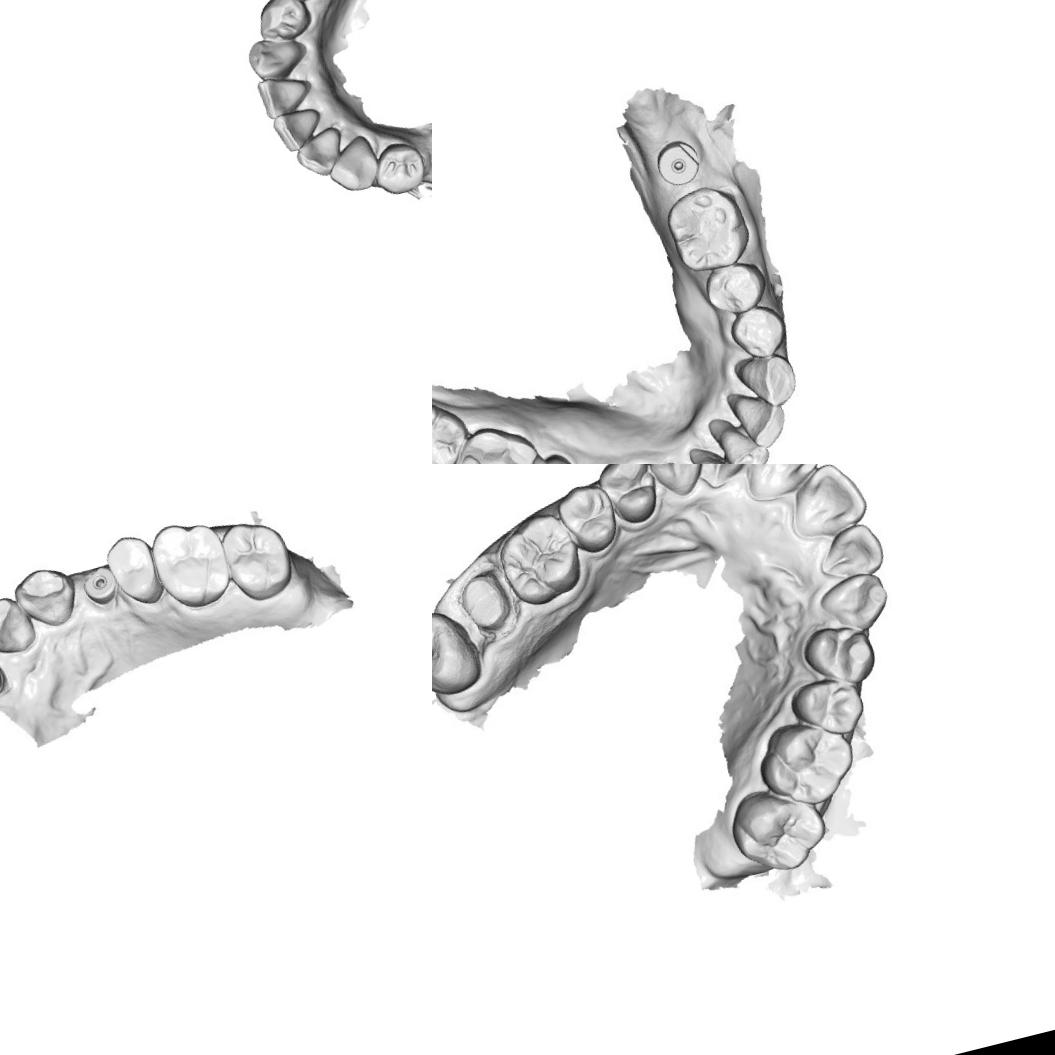canine: (8, 557, 80, 634), (815, 571, 892, 633), (730, 344, 798, 412), (321, 131, 383, 198), (242, 29, 311, 84), (641, 464, 711, 502)
crown: (454, 568, 512, 636)
implant: (643, 123, 711, 198), (78, 566, 124, 614)
incisor: (786, 464, 869, 539), (729, 382, 789, 450), (818, 525, 882, 581), (290, 123, 349, 182), (254, 68, 314, 122), (270, 104, 328, 155), (710, 411, 765, 464), (738, 464, 822, 498), (0, 589, 38, 661), (692, 439, 746, 464), (697, 464, 756, 485)
molar: (726, 782, 833, 886), (756, 712, 859, 810), (145, 512, 236, 615), (659, 180, 750, 274), (494, 511, 582, 603), (213, 511, 298, 606), (432, 602, 486, 707), (447, 415, 554, 464), (432, 390, 471, 464)
premolar: (798, 618, 880, 696), (554, 479, 626, 559), (100, 528, 166, 612), (796, 676, 864, 743), (595, 464, 664, 529), (724, 300, 790, 363), (367, 136, 430, 200), (704, 258, 766, 312), (252, 0, 316, 46)
